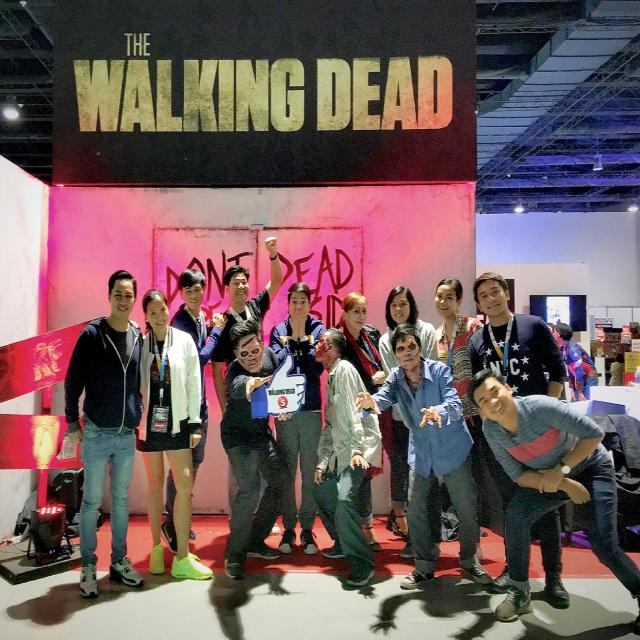body: (465, 365, 640, 639), (353, 318, 494, 594), (466, 269, 576, 610), (58, 267, 150, 605), (127, 284, 215, 584), (210, 234, 285, 537), (214, 316, 295, 582), (160, 269, 229, 555), (310, 326, 384, 590), (265, 277, 334, 556), (338, 290, 408, 554), (364, 576, 640, 640), (377, 283, 440, 545), (434, 276, 484, 567), (6, 580, 179, 634), (207, 566, 291, 640), (538, 318, 600, 405), (606, 346, 629, 391)
